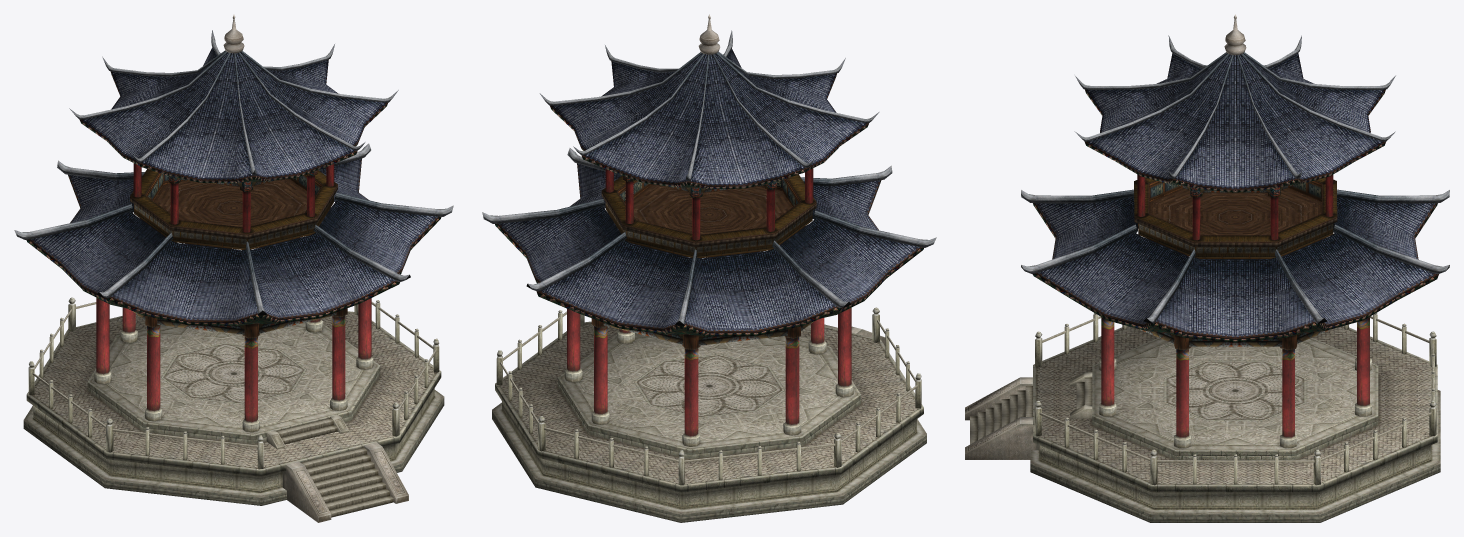
The model's file is milgyo_pavilion.glb.
3 views of the same model, side by side, from view 1: azimuth 30°, elevation 25°; view 2: azimuth 150°, elevation 25°; view 3: azimuth 270°, elevation 25° (orthographic). The views are drawn at different scales.
Parts seen in each view (by area): view 1: m; view 2: m; view 3: m.
Boxes of the visible parts, left/top/right/bottom form: m: left=14, top=14, right=453, bottom=522; m: left=482, top=14, right=936, bottom=522; m: left=965, top=14, right=1449, bottom=522.
Bounding box in the file's own units: 18.34 × 19.94 × 20.73.
Materials: 4 (4 with a texture image).
